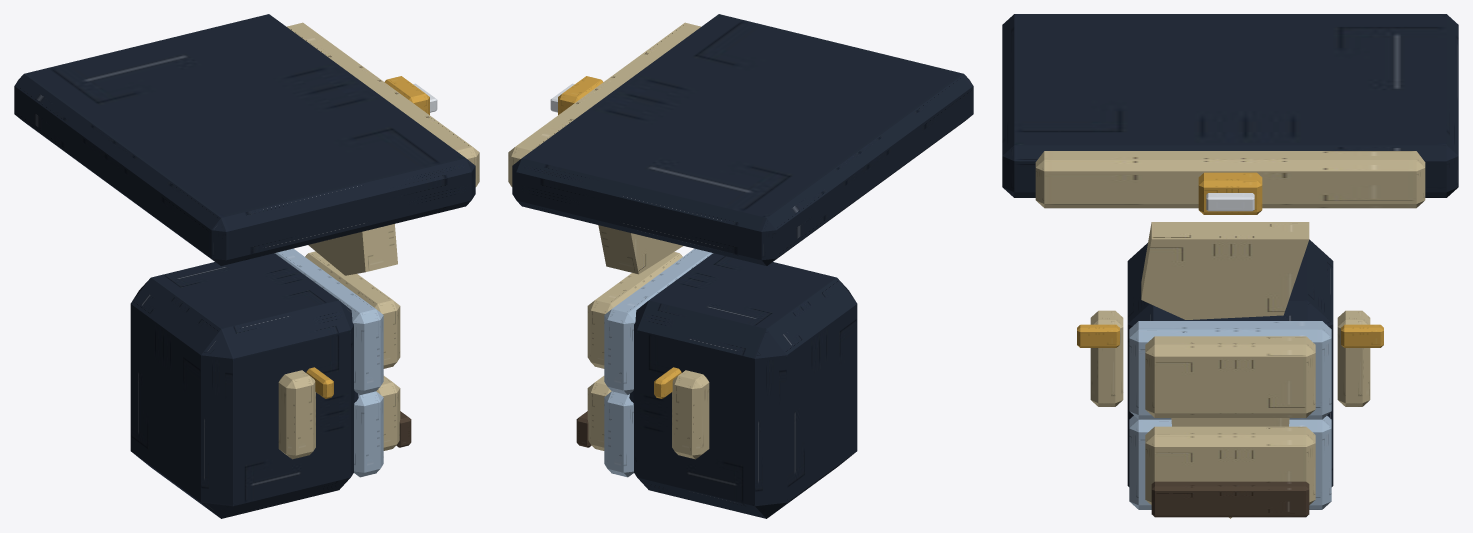
File: cargo.glb
The picture shows the model from 3 angles, left to right: view 1: azimuth 30°, elevation 25°; view 2: azimuth 150°, elevation 25°; view 3: azimuth 270°, elevation 25°; orthographic projection. The views are drawn at different scales.
Parts seen in each view (by area): view 1: hips, leg_L, leg_R, shin_L; view 2: hips, leg_L, shin_L; view 3: hips, leg_L, shin_L, leg_R.
Part boxes in pixels (box(x1,y1,x2,y2)): hips: box(14, 14, 479, 265); leg_L: box(130, 248, 411, 518); leg_R: box(278, 367, 333, 459); shin_L: box(308, 224, 397, 402); hips: box(508, 14, 973, 265); leg_L: box(576, 248, 857, 518); shin_L: box(598, 225, 682, 402); hips: box(1002, 14, 1458, 214); leg_L: box(1127, 239, 1383, 517); shin_L: box(1141, 222, 1309, 518); leg_R: box(1077, 310, 1123, 406).
Size of the model in its own units: 0.232 by 0.256 by 0.266.
6 materials, 6 textured.
